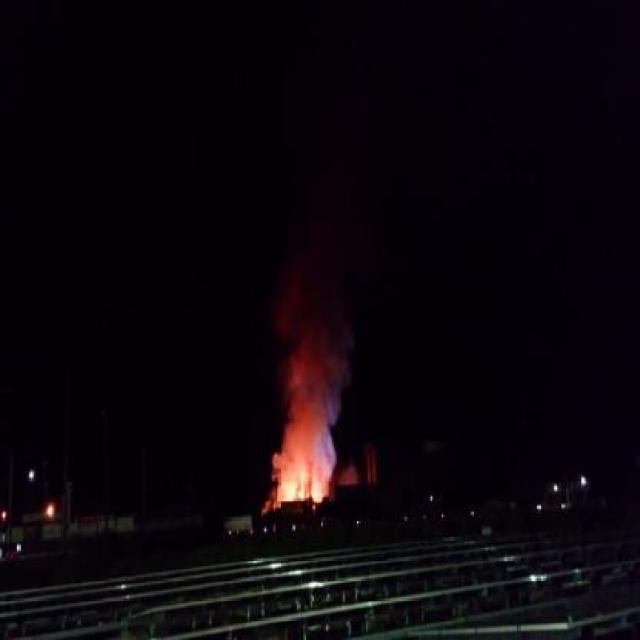Fire: (278, 470, 322, 504)
